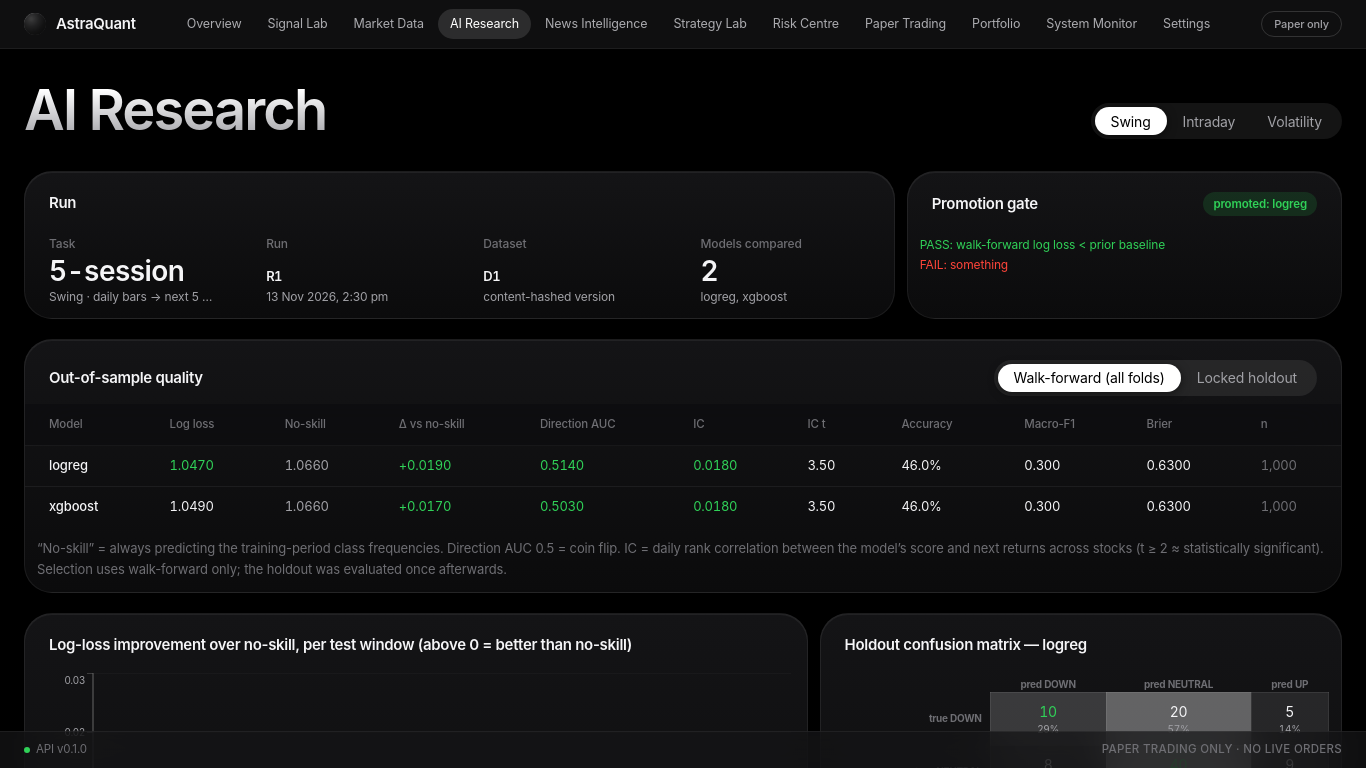
Test: AI Research › renders the latest run, metrics vs no-skill, gate and fold wins
Expected: the text "promoted: logreg" is shown, [1203,192,1317,216]
Expected: the text "+0.0190" is shown, [375,446,516,486]
Click the tab "Locked holdout": (1247, 378) [1181,364,1313,392]
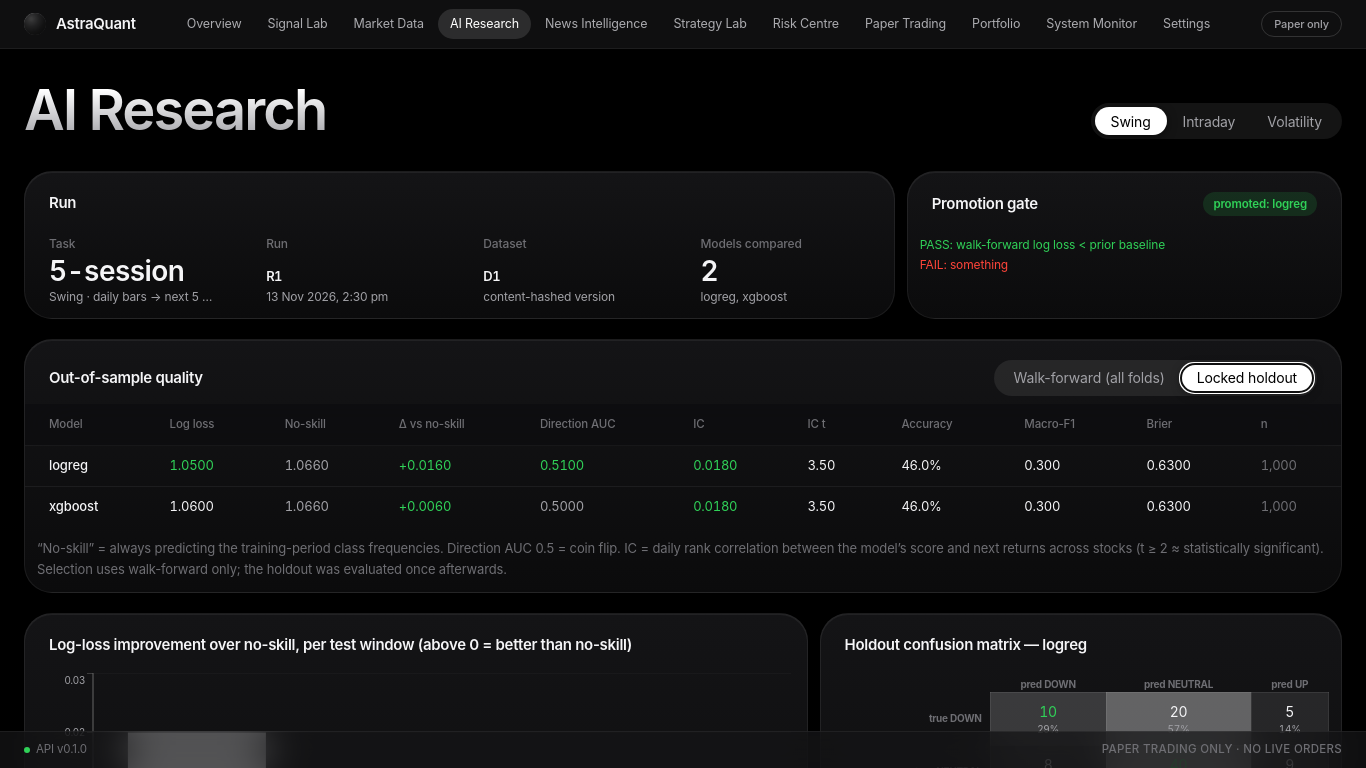
Now the text "1.0500" is shown, box [146,446,261,486]
